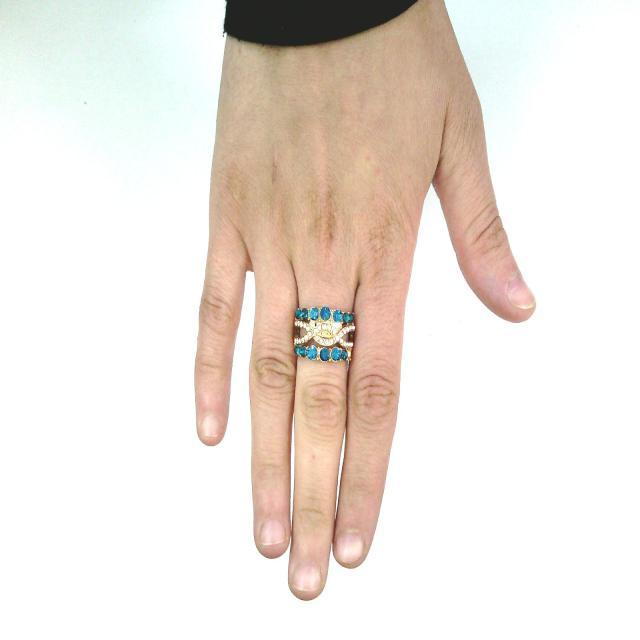Fingernail: (509, 277, 535, 309), (338, 533, 363, 562), (293, 566, 320, 591), (262, 522, 285, 544), (202, 417, 222, 436)
